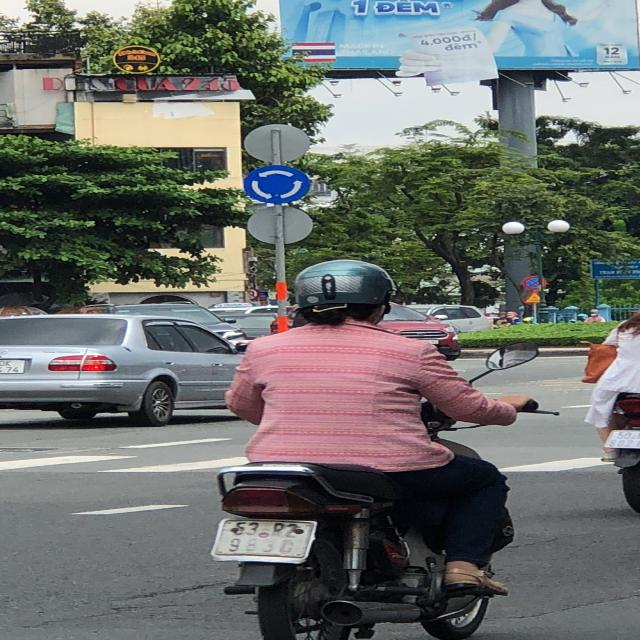Bien bao noi giao nhau chay theo vong xuyen: (241, 164, 315, 205)
